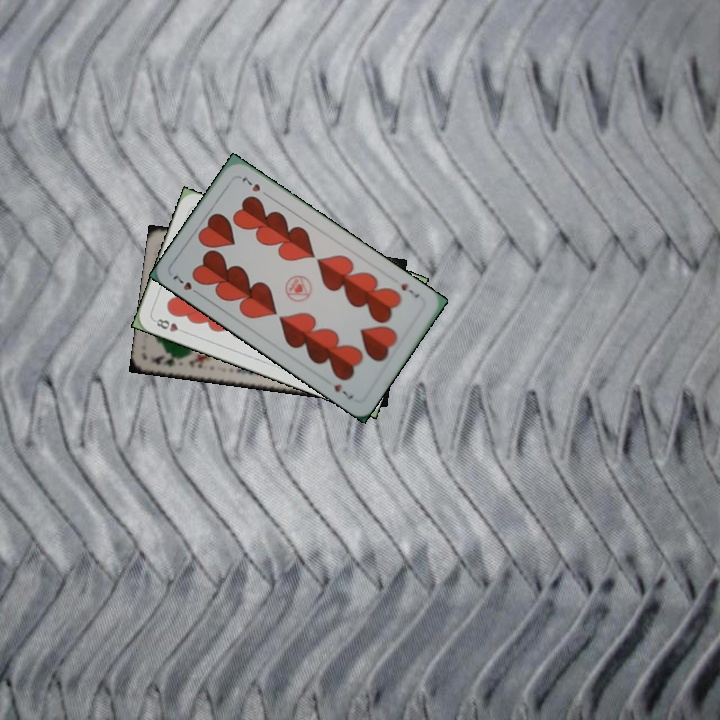GK: (148, 351, 186, 370)
H7: (169, 271, 204, 298), (397, 279, 422, 301)
H8: (150, 314, 189, 336)
